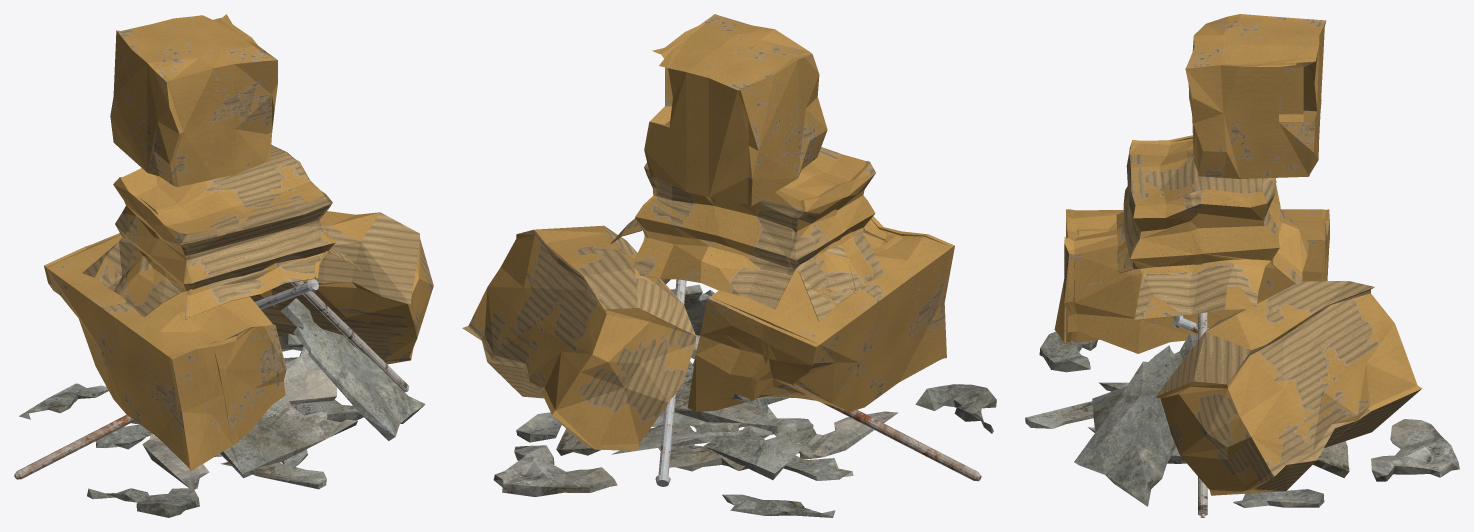
File: RUBBLE_BIG.obj
The picture shows the model from 3 angles, left to right: view 1: azimuth 30°, elevation 25°; view 2: azimuth 150°, elevation 25°; view 3: azimuth 270°, elevation 25°; orthographic projection. The views are drawn at different scales.
Parts seen in each view (by area): view 1: BOX1, BOX2, BOX4, RUBBLE1, BOX3, RUBBLE02, small_tube2, small_tube1, small_tube3; view 2: BOX3, BOX1, BOX4, BOX2, RUBBLE02, RUBBLE1, small_tube1, small_tube3; view 3: BOX3, BOX2, BOX4, RUBBLE1, BOX1, RUBBLE02, small_tube2.
Boxes of the visible parts, bbox=[...] form: BOX1: bbox=[44, 233, 286, 470]; BOX2: bbox=[82, 144, 367, 319]; BOX4: bbox=[110, 14, 277, 186]; RUBBLE1: bbox=[87, 298, 425, 517]; BOX3: bbox=[250, 211, 433, 364]; RUBBLE02: bbox=[19, 383, 326, 489]; small_tube2: bbox=[291, 281, 408, 392]; small_tube1: bbox=[14, 414, 134, 479]; small_tube3: bbox=[255, 279, 318, 309]; BOX3: bbox=[462, 225, 695, 450]; BOX1: bbox=[687, 216, 954, 411]; BOX4: bbox=[644, 14, 827, 206]; BOX2: bbox=[611, 147, 887, 322]; RUBBLE02: bbox=[516, 403, 898, 517]; RUBBLE1: bbox=[493, 284, 996, 496]; small_tube1: bbox=[821, 402, 981, 481]; small_tube3: bbox=[655, 279, 686, 486]; BOX3: bbox=[1155, 281, 1422, 495]; BOX2: bbox=[1116, 135, 1308, 319]; BOX4: bbox=[1185, 14, 1326, 178]; RUBBLE1: bbox=[1039, 331, 1459, 506]; BOX1: bbox=[1054, 209, 1329, 353]; RUBBLE02: bbox=[1025, 382, 1324, 507]; small_tube2: bbox=[1198, 312, 1207, 517].
Bounding box in the file's own units: 4.81 × 3.93 × 3.98.
Materials: 6 (6 with a texture image).
